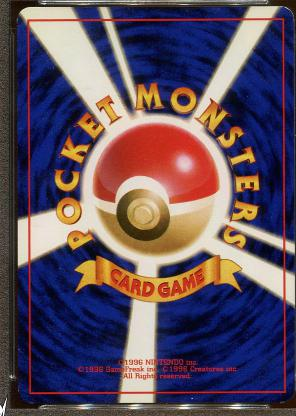Card: (14, 4, 294, 408)
Corner Wear: (279, 5, 294, 21)
Edge Wear: (16, 384, 21, 394), (26, 400, 36, 404), (277, 398, 284, 402), (16, 14, 18, 28)
